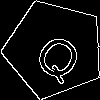Q: (29, 24, 91, 86)
